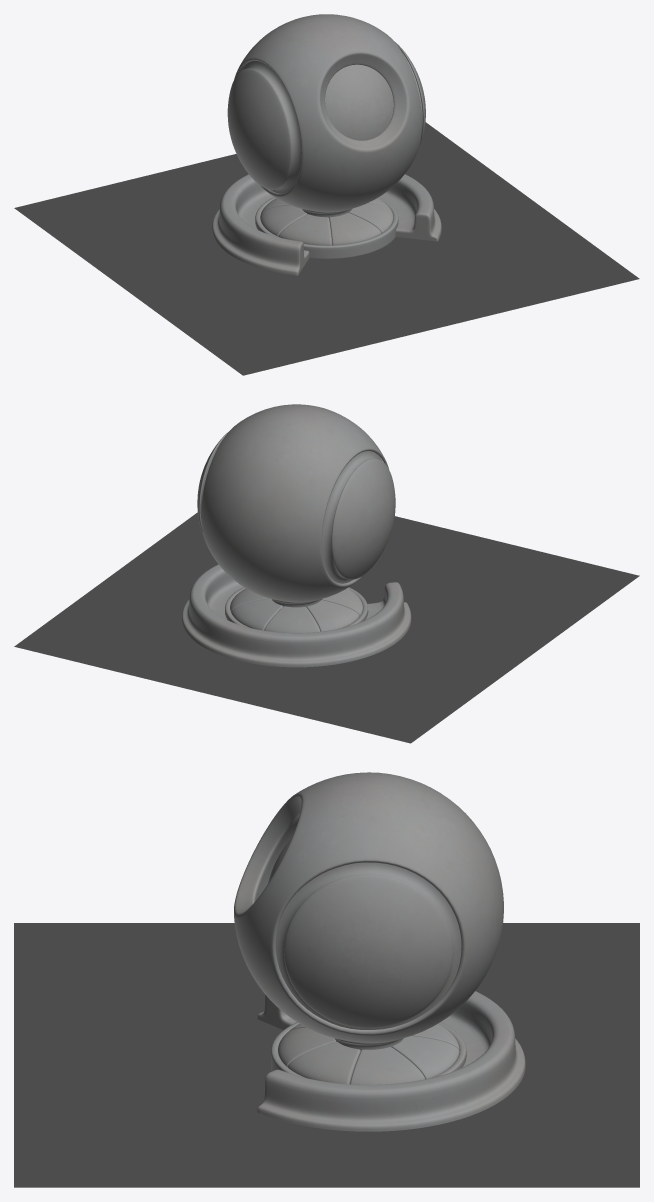
Rendered from CameraTestScene - Copy.gltf.
3 views of the same model, one above another, from view 1: azimuth 30°, elevation 25°; view 2: azimuth 150°, elevation 25°; view 3: azimuth 270°, elevation 25° (orthographic). The views are drawn at different scales.
Visible parts, largest first — view 1: Plane, MatBall; view 2: Plane, MatBall; view 3: Plane, MatBall.
Part boxes in pixels (left/top/right/bottom): Plane: left=14, top=122, right=639, bottom=375; MatBall: left=212, top=14, right=441, bottom=275; Plane: left=14, top=512, right=639, bottom=743; MatBall: left=181, top=404, right=411, bottom=667; Plane: left=14, top=923, right=639, bottom=1187; MatBall: left=234, top=772, right=525, bottom=1131.
Bounding box in the file's own units: 3.94 × 1.95 × 3.94.
